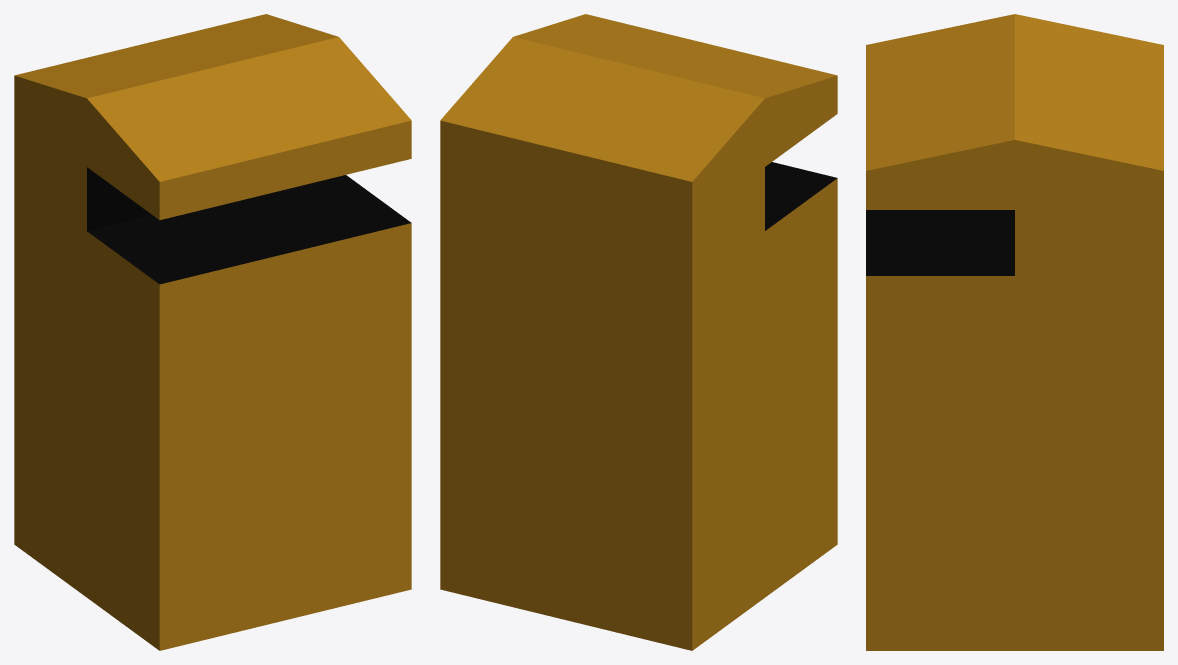
File: SM_trashcan_yellow.FBX
3 renders of one model, left to right at view 1: azimuth 30°, elevation 25°; view 2: azimuth 150°, elevation 25°; view 3: azimuth 270°, elevation 25°, orthographic. The views are drawn at different scales.
Parts seen in each view (by area): view 1: trashcan_03; view 2: trashcan_03; view 3: trashcan_03.
Part boxes in pixels (bbox=[...]): trashcan_03: bbox=[14, 14, 411, 650]; trashcan_03: bbox=[440, 14, 837, 650]; trashcan_03: bbox=[866, 14, 1163, 650].
Size of the model in its own units: 45 by 85.18 by 45.
